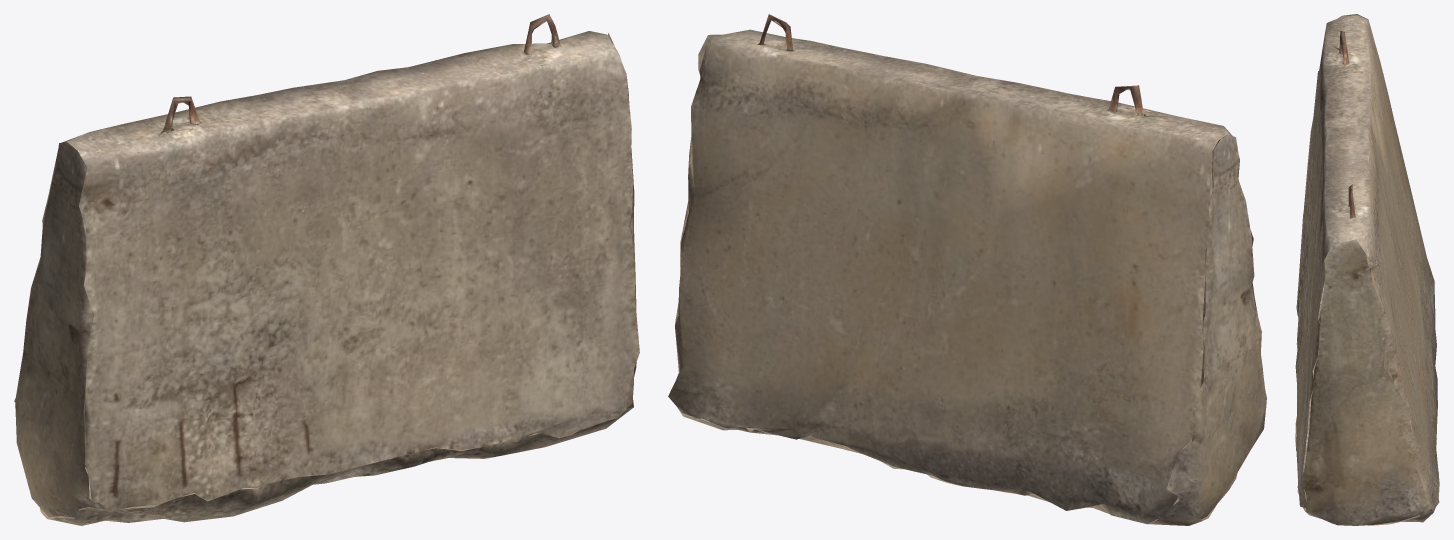
The model's file is concrete_road_barrier_02.glb.
The picture shows the model from 3 angles, left to right: view 1: azimuth 30°, elevation 25°; view 2: azimuth 150°, elevation 25°; view 3: azimuth 270°, elevation 25°; orthographic projection. The views are drawn at different scales.
Visible parts, largest first — view 1: concrete_road_barrier_02; view 2: concrete_road_barrier_02; view 3: concrete_road_barrier_02.
Part boxes in pixels (box(x1,y1,x2,y2)): concrete_road_barrier_02: box(14, 14, 639, 525); concrete_road_barrier_02: box(668, 14, 1266, 525); concrete_road_barrier_02: box(1295, 14, 1439, 525).
Size of the model in its own units: 1.56 by 1.1 by 0.441.
Materials: 1 (1 with a texture image).
